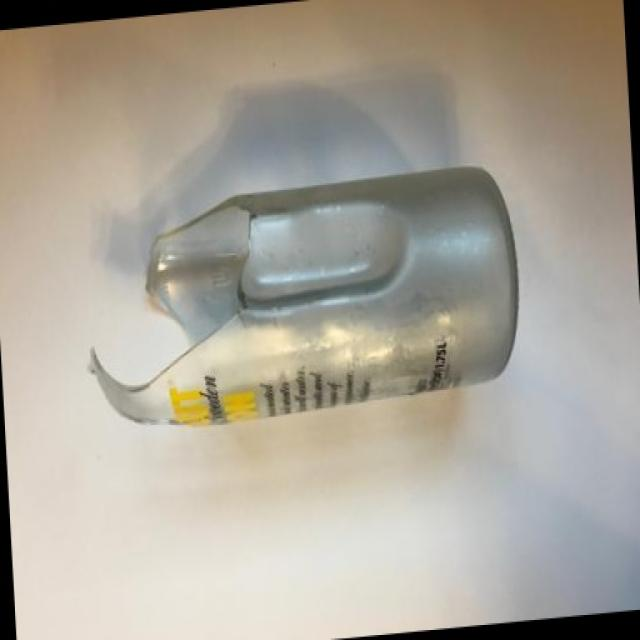vidrio: (73, 128, 568, 498)
